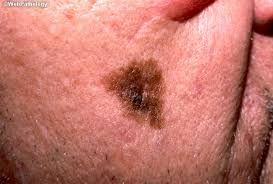melanoma: (96, 55, 182, 133)
